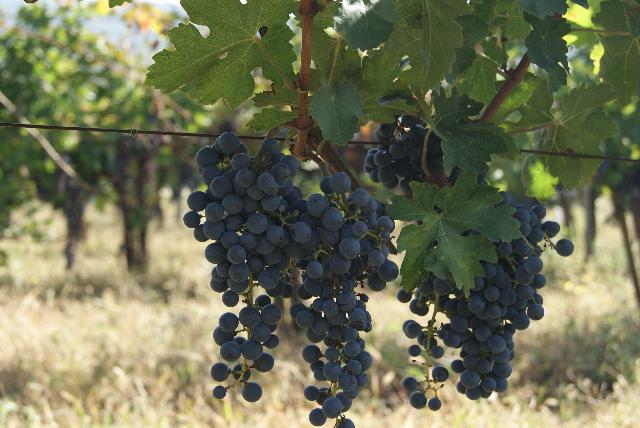grapes: (184, 131, 305, 401), (296, 172, 398, 425), (445, 205, 559, 400)
